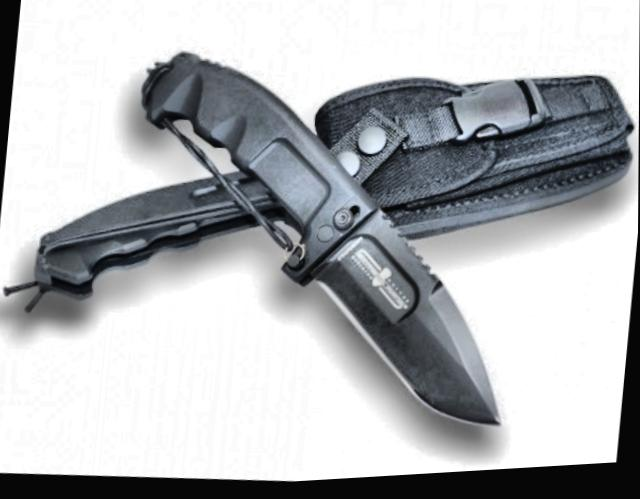knife: (282, 193, 532, 457)
